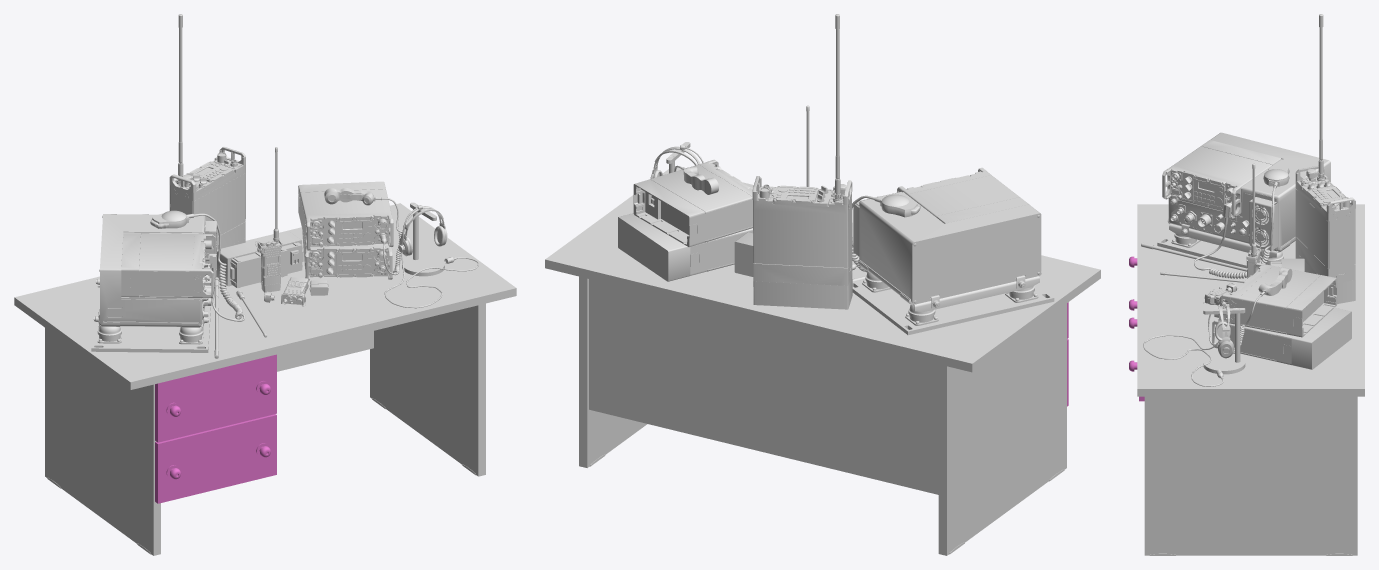
File: MilitaryRadio.fbx
The picture shows the model from 3 angles, left to right: view 1: azimuth 30°, elevation 25°; view 2: azimuth 150°, elevation 25°; view 3: azimuth 270°, elevation 25°; orthographic projection. The views are drawn at different scales.
Parts seen in each view (by area): view 1: Table.001_low.002, Table_low.002, Table.003_low.002, Table.005_low.002, RadioAmpfilter.001_low.008, RadioMR300.007, RadioAmpfilter_low.007, RadioMR300.198, RadioMR300.003, RadioMR300.151, Table.002_low.002, RadioMR300.148 (+11 smaller); view 2: Table.002_low.002, Table.001_low.002, Table_low.002, RadioAmpfilter.001_low.008, RadioMR300.151, RadioMR300.148, RadioAmpfilter_low.007, RadioMR300, RadioMR300.196, RadioMR300.003, RadioMR300.197, RadioMR300.103 (+7 smaller); view 3: Table.001_low.002, Table_low.002, RadioAmpfilter.001_low.008, RadioMR300.148, RadioMR300.196, RadioMR300, RadioMR300.003, RadioMR300.151, RadioMR300.103, RadioAmpfilter_low.007, RadioMR300.038, RadioAmpfilter.002_low.007 (+18 smaller).
Part boxes in pixels (<box>): Table.001_low.002: <box>45,303,485,555</box>; Table_low.002: <box>14,203,516,389</box>; Table.003_low.002: <box>155,414,276,503</box>; Table.005_low.002: <box>155,354,276,442</box>; RadioAmpfilter.001_low.008: <box>100,214,205,325</box>; RadioMR300.007: <box>121,233,205,297</box>; RadioAmpfilter_low.007: <box>91,285,210,352</box>; RadioMR300.198: <box>216,231,302,287</box>; RadioMR300.003: <box>139,233,194,297</box>; RadioMR300.151: <box>169,173,245,236</box>; Table.002_low.002: <box>277,331,373,371</box>; RadioMR300.148: <box>298,181,391,246</box>; Table.002_low.002: <box>589,279,938,494</box>; Table.001_low.002: <box>579,276,1066,555</box>; Table_low.002: <box>545,166,1100,372</box>; RadioAmpfilter.001_low.008: <box>859,191,1041,304</box>; RadioMR300.151: <box>753,209,852,267</box>; RadioMR300.148: <box>633,162,752,246</box>; RadioAmpfilter_low.007: <box>852,279,1054,335</box>; RadioMR300: <box>618,213,690,281</box>; RadioMR300.196: <box>753,186,852,285</box>; RadioMR300.003: <box>908,175,1019,217</box>; RadioMR300.197: <box>753,273,852,309</box>; RadioMR300.103: <box>650,164,752,242</box>; Table.001_low.002: <box>1144,396,1357,555</box>; Table_low.002: <box>1137,204,1364,396</box>; RadioAmpfilter.001_low.008: <box>1168,132,1330,250</box>; RadioMR300.148: <box>1230,264,1337,337</box>; RadioMR300.196: <box>1295,175,1355,281</box>; RadioMR300: <box>1291,307,1351,369</box>; RadioMR300.003: <box>1174,146,1272,184</box>; RadioMR300.151: <box>1295,189,1355,268</box>; RadioMR300.103: <box>1238,266,1320,334</box>; RadioAmpfilter_low.007: <box>1157,232,1295,268</box>; RadioMR300.038: <box>1226,318,1293,364</box>; RadioAmpfilter.002_low.007: <box>1249,193,1277,251</box>.
Size of the model in its own units: 180 by 199 by 97.02.
